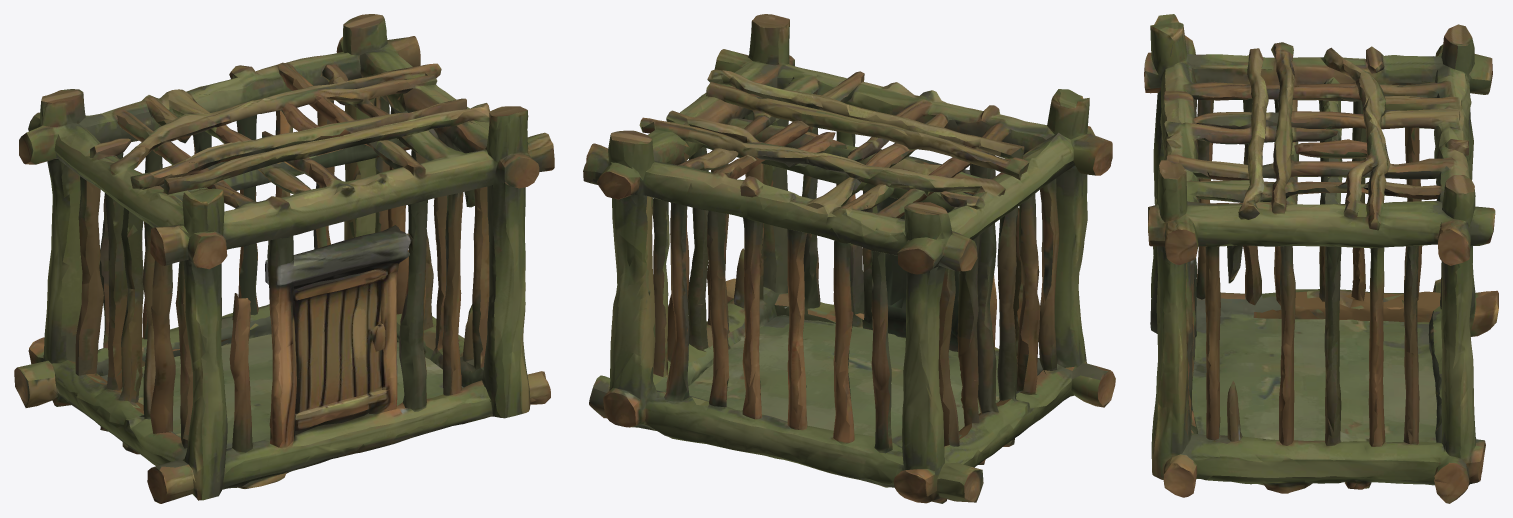
Rendered from item_beast_cage.glb.
3 renders of one model, left to right at view 1: azimuth 30°, elevation 25°; view 2: azimuth 150°, elevation 25°; view 3: azimuth 270°, elevation 25°, orthographic. The views are drawn at different scales.
Visible parts, largest first — view 1: item_beast_cage; view 2: item_beast_cage; view 3: item_beast_cage.
Part boxes in pixels (<box>): item_beast_cage: <box>14,14,554,503</box>; item_beast_cage: <box>583,14,1115,503</box>; item_beast_cage: <box>1144,14,1498,503</box>.
Size of the model in its own units: 0.6 by 0.4677 by 0.4624.
Materials: 1 (1 with a texture image).
